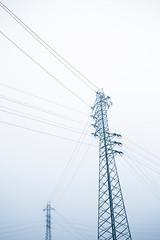power_tower: (89, 87, 134, 240), (37, 202, 60, 240)
